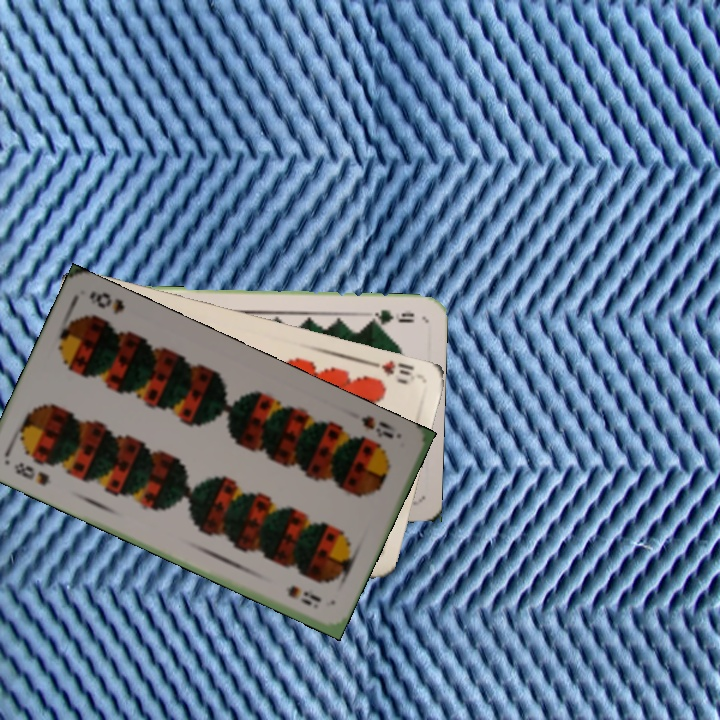G9: (362, 306, 417, 327)
H10: (363, 356, 417, 387)
S8: (9, 458, 54, 488), (357, 411, 396, 442)
